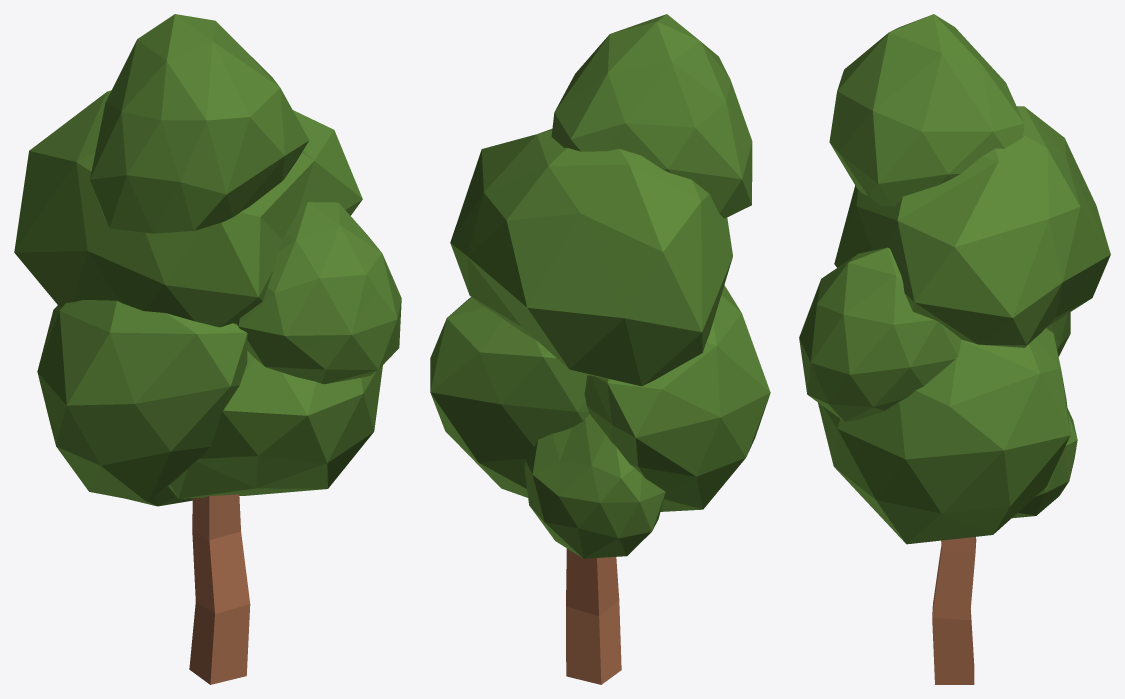
Rendered from tree-1.glb.
3 renders of one model, left to right at view 1: azimuth 30°, elevation 25°; view 2: azimuth 150°, elevation 25°; view 3: azimuth 270°, elevation 25°, orthographic. The views are drawn at different scales.
Visible parts, largest first — view 1: Tree 1_0; view 2: Tree 1_0; view 3: Tree 1_0.
Boxes of the visible parts, x1,y1,x2,y2 form: Tree 1_0: (14,14,401,684); Tree 1_0: (430,14,770,684); Tree 1_0: (799,14,1110,684).
Bounding box in the file's own units: 17.05 × 35.71 × 15.82.
Materials: 1 (1 with a texture image).
